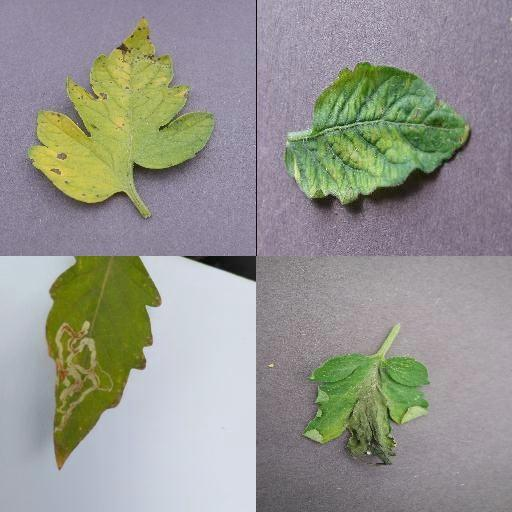Late Blight: (303, 350, 435, 468)
Leaf Miner: (43, 256, 160, 472)
Mosaic Virus: (284, 58, 472, 208)
Septoria: (28, 16, 218, 204)
